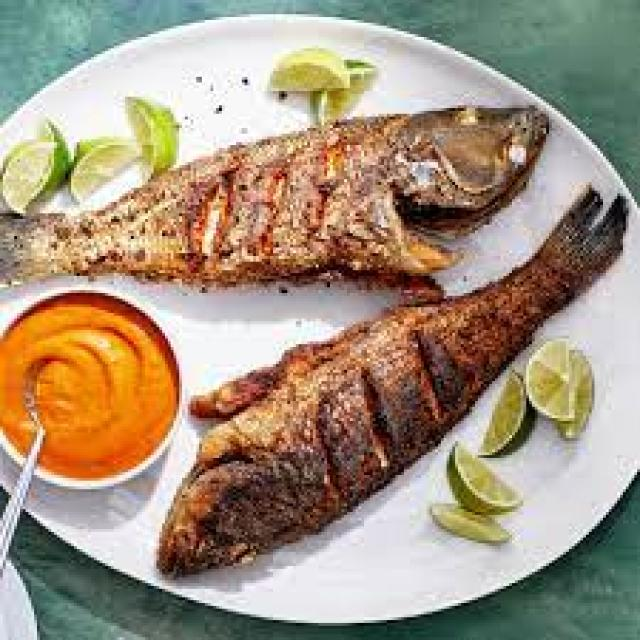Peixe: (154, 180, 628, 578), (0, 99, 549, 296)
